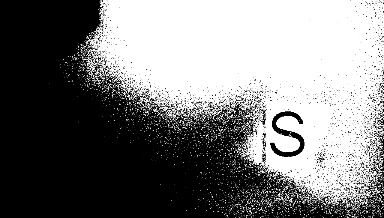S: (264, 106, 309, 157)
